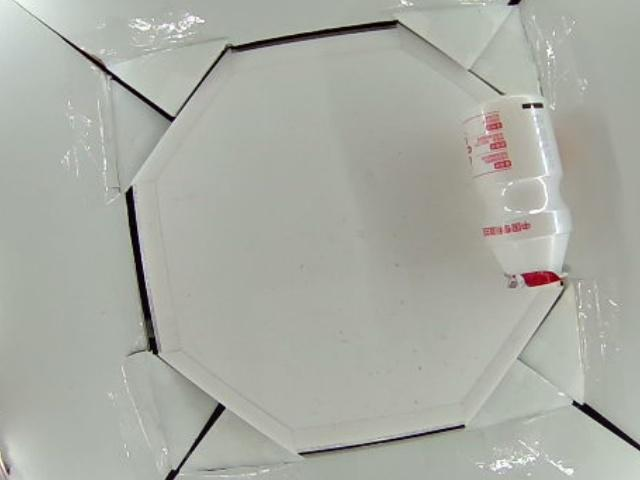Bottle: (459, 94, 571, 287)
